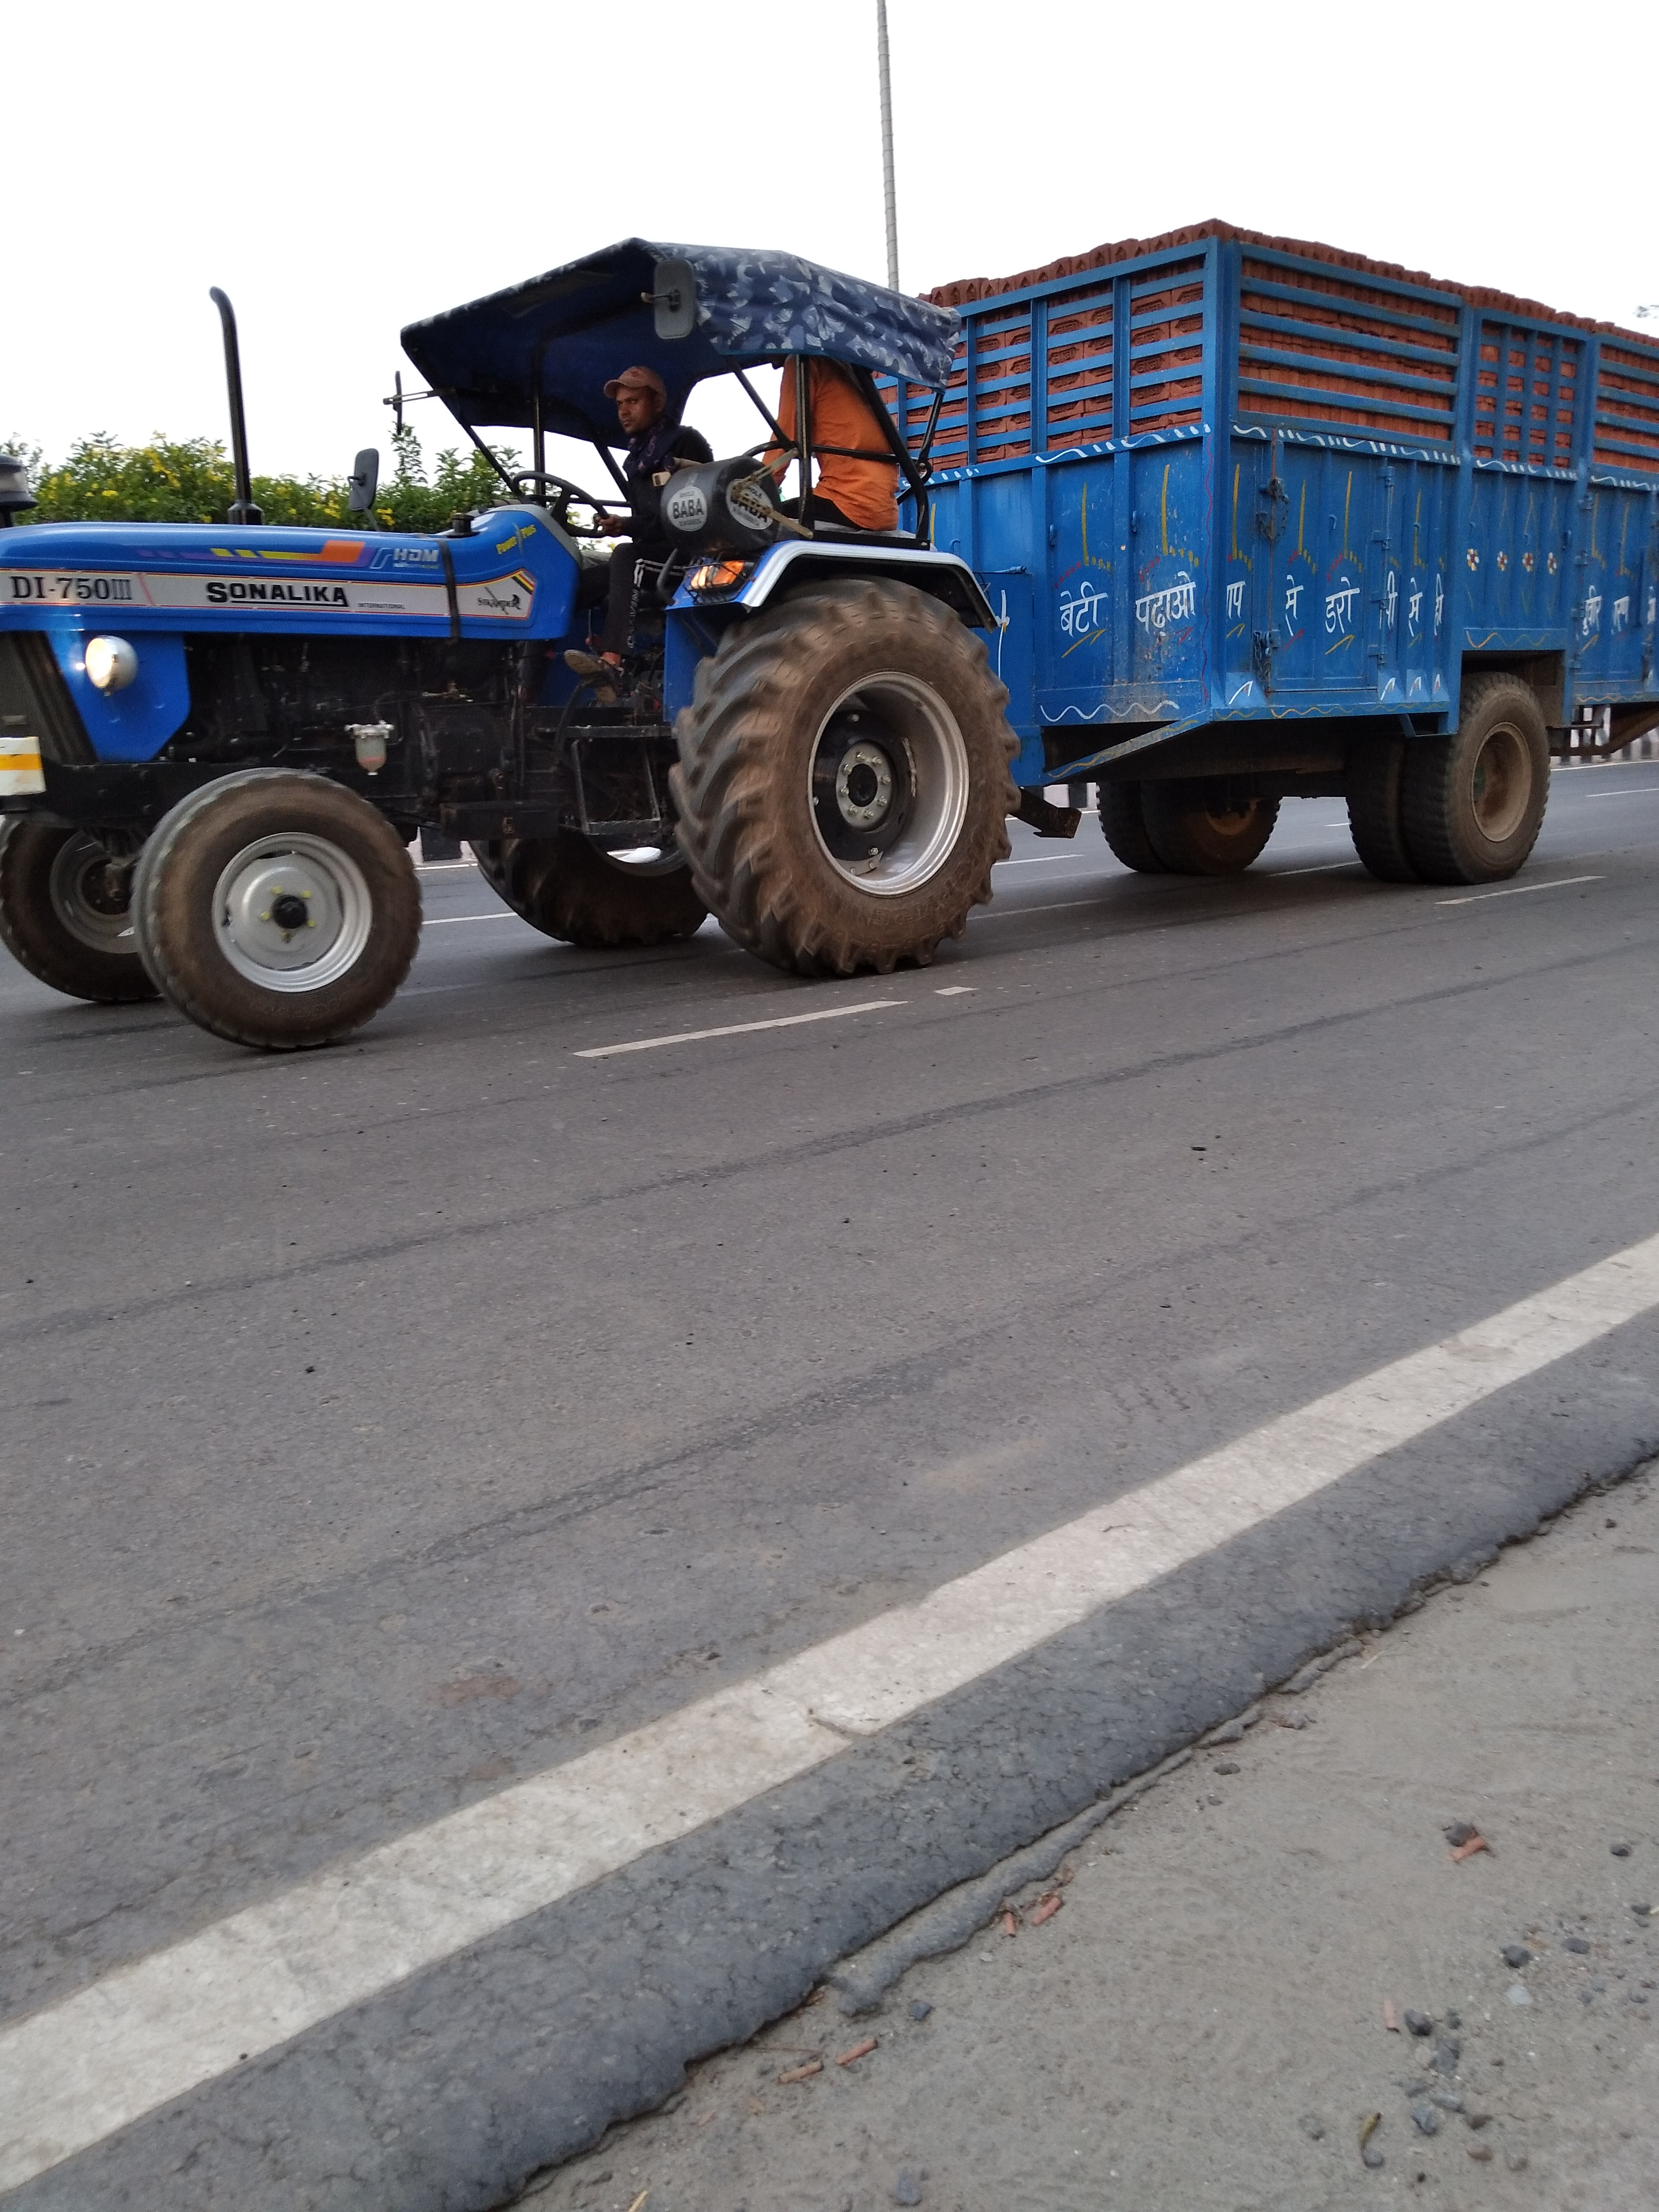tractor: (0, 212, 1659, 1069)
